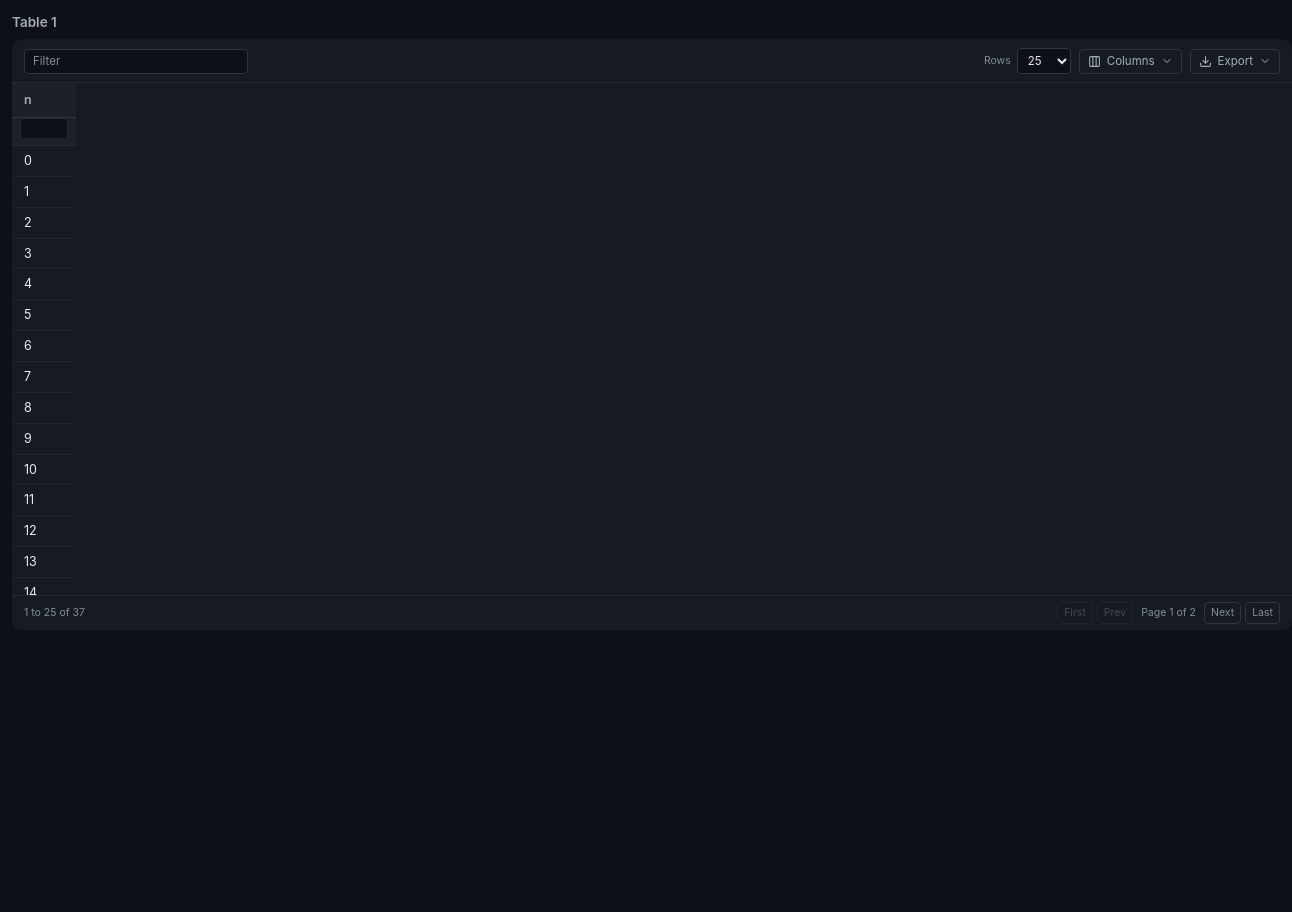
Test: a pane shows everything the payload carries › steps to the next page and shows the rest
Click the button "Next": (1223, 613) top-left (1204, 602), bottom-right (1241, 624)
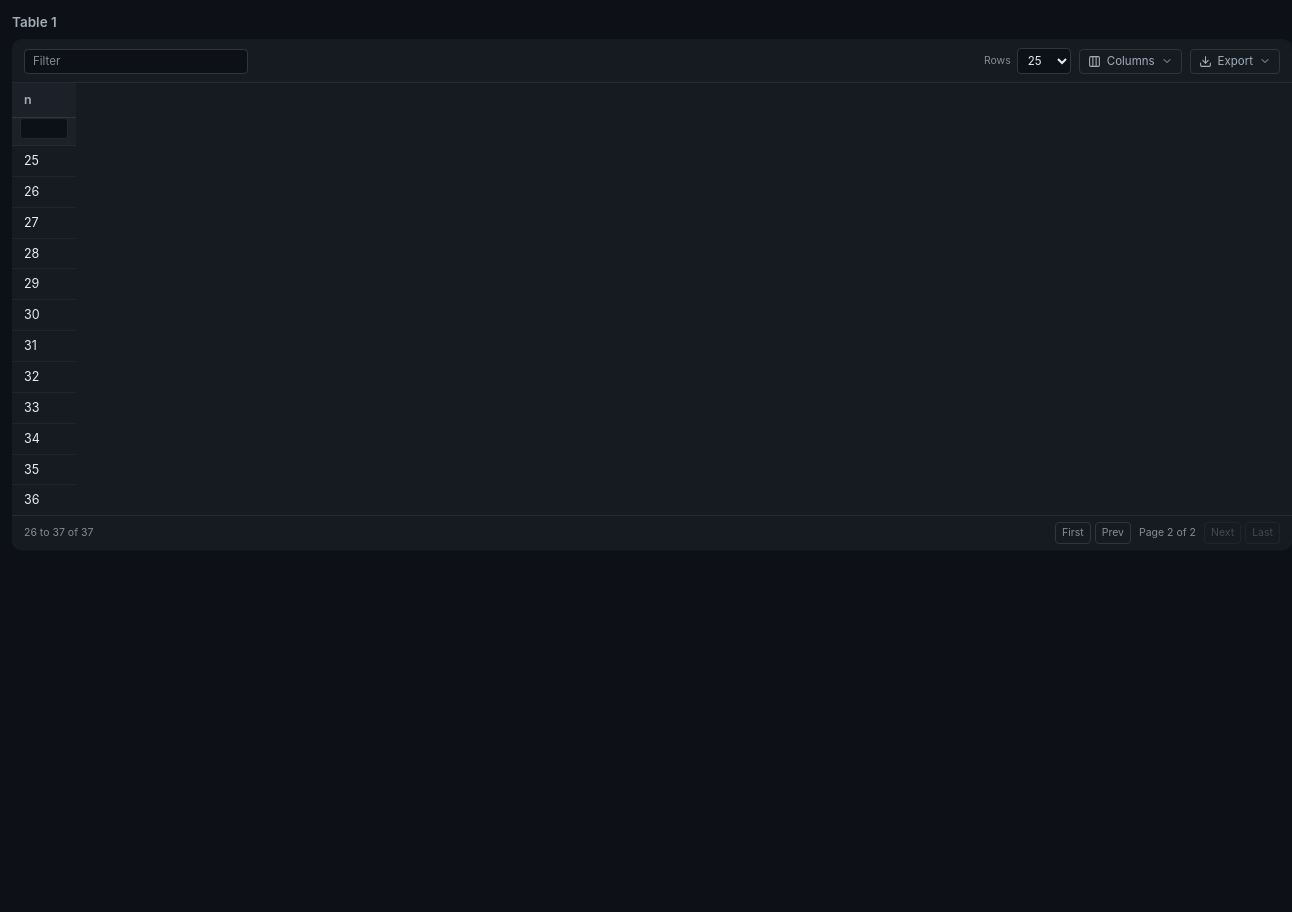
Now the text "26 to 37 of 37" is shown, box top-left (24, 525), bottom-right (93, 541)
